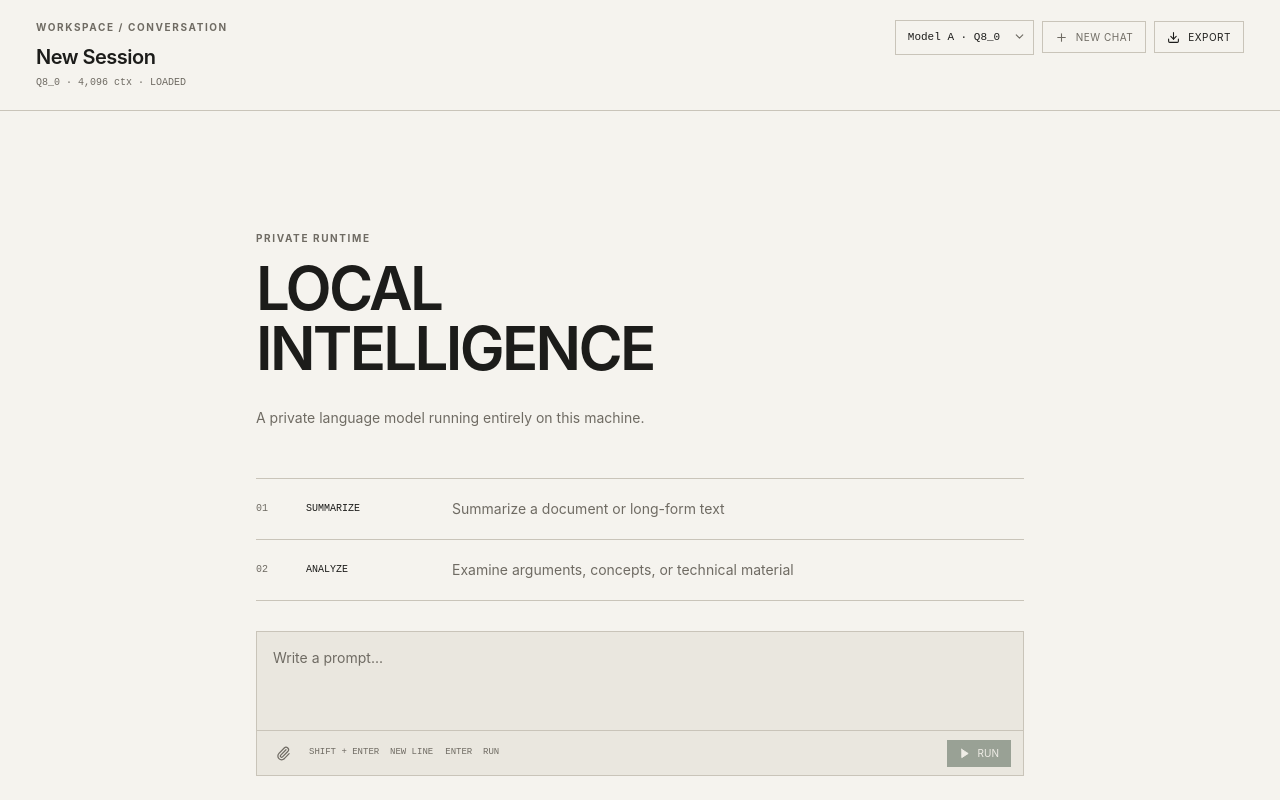
Scenario: ChatWorkspace settings wiring › uses the non-streaming endpoint when streaming is disabled
Type "Hello" into the text box with placeholder "Write a prompt..." at (640,678), box x1=257 y1=632 x2=1023 y2=724
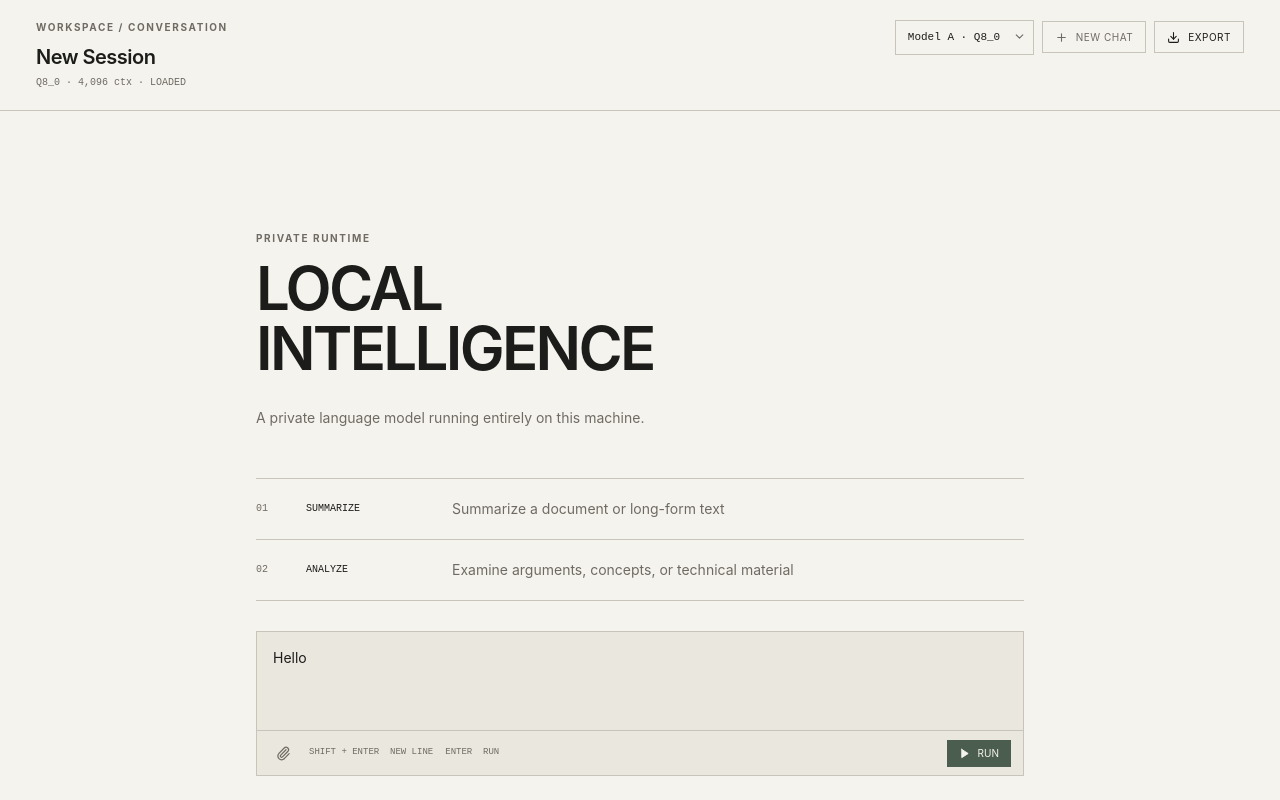
Press Enter in the text box with placeholder "Write a prompt...", box x1=257 y1=632 x2=1023 y2=724
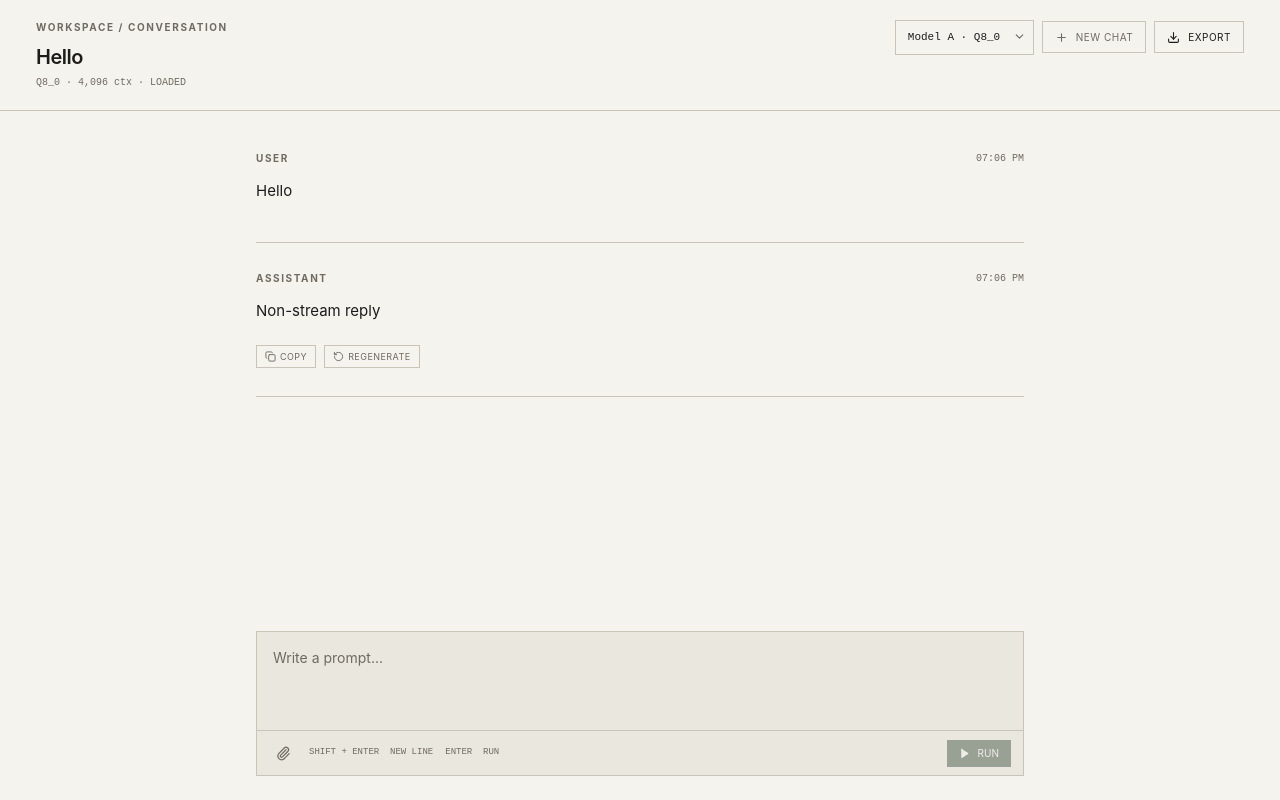
Now the text "Non-stream reply" is shown, box x1=256 y1=301 x2=380 y2=320
